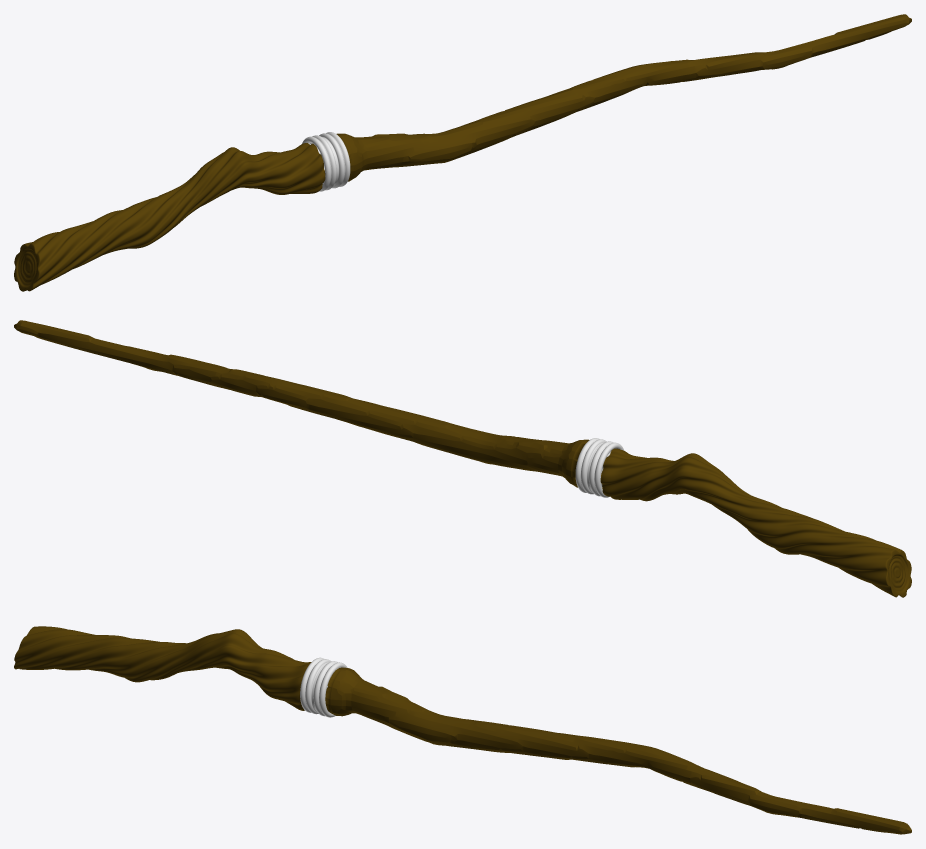
File: Wand.fbx
3 renders of one model, top to bottom at view 1: azimuth 30°, elevation 25°; view 2: azimuth 150°, elevation 25°; view 3: azimuth 330°, elevation 25°, orthographic.
Parts seen in each view (by area): view 1: Handle__0; view 2: Handle__0; view 3: Handle__0.
Part boxes in pixels (x1,y1,x2,y2): Handle__0: (14, 14, 911, 291); Handle__0: (14, 320, 911, 597); Handle__0: (14, 626, 911, 834).
Bounding box in the file's own units: 81.83 × 7.81 × 4.47.
